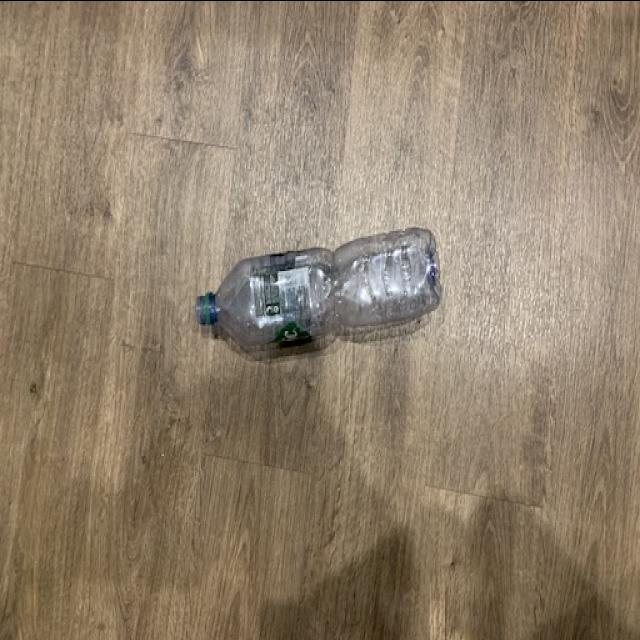PET: (194, 225, 442, 355)
